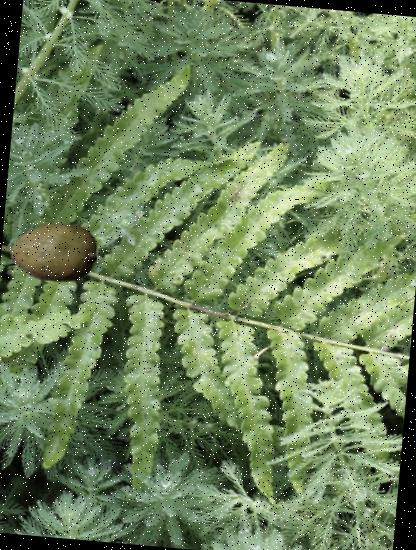Papaya: (7, 205, 101, 299)
